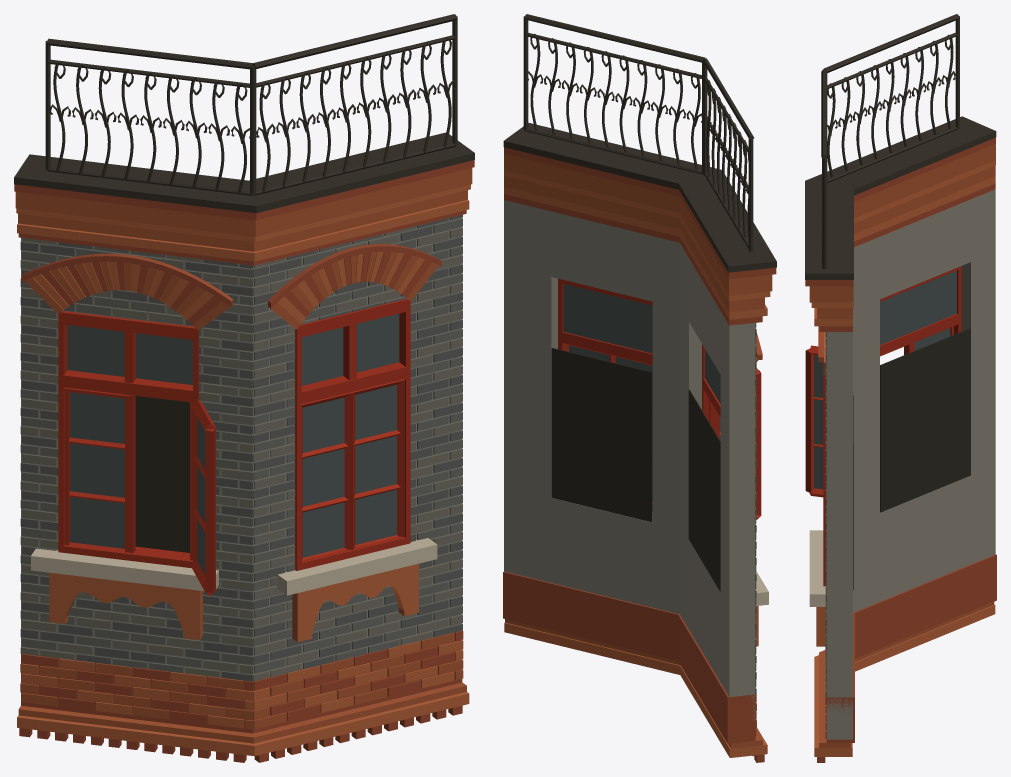
The model's file is hongkou-shanyin-229-canted-bay-raw.glb.
3 renders of one model, left to right at view 1: azimuth 30°, elevation 25°; view 2: azimuth 150°, elevation 25°; view 3: azimuth 270°, elevation 25°, orthographic. The views are drawn at different scales.
Parts seen in each view (by area): view 1: 山阴路229弄1号花砖凸窗与曲线铁栏; view 2: 山阴路229弄1号花砖凸窗与曲线铁栏; view 3: 山阴路229弄1号花砖凸窗与曲线铁栏.
Boxes of the visible parts, box(x1,y1,x2,y2) form: 山阴路229弄1号花砖凸窗与曲线铁栏: box(14, 14, 474, 762); 山阴路229弄1号花砖凸窗与曲线铁栏: box(503, 14, 776, 762); 山阴路229弄1号花砖凸窗与曲线铁栏: box(805, 14, 996, 762).
Bounding box in the file's own units: 2.65 × 4.76 × 1.37.
